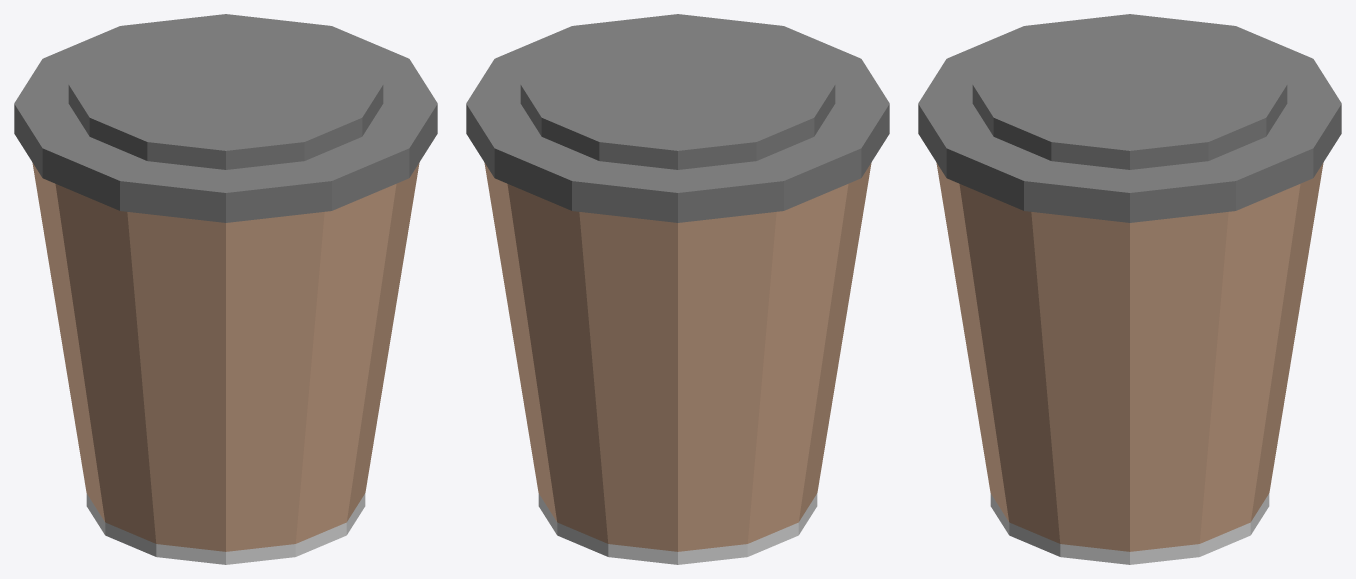
The model's file is coffeecup.fbx.
3 views of the same model, side by side, from view 1: azimuth 30°, elevation 25°; view 2: azimuth 150°, elevation 25°; view 3: azimuth 270°, elevation 25° (orthographic).
Parts seen in each view (by area): view 1: Cylinder; view 2: Cylinder; view 3: Cylinder.
Boxes of the visible parts, bbox=[...] form: Cylinder: bbox=[14, 14, 437, 564]; Cylinder: bbox=[466, 14, 889, 564]; Cylinder: bbox=[918, 14, 1341, 564].
Size of the model in its own units: 10.68 by 10.68 by 11.73.
